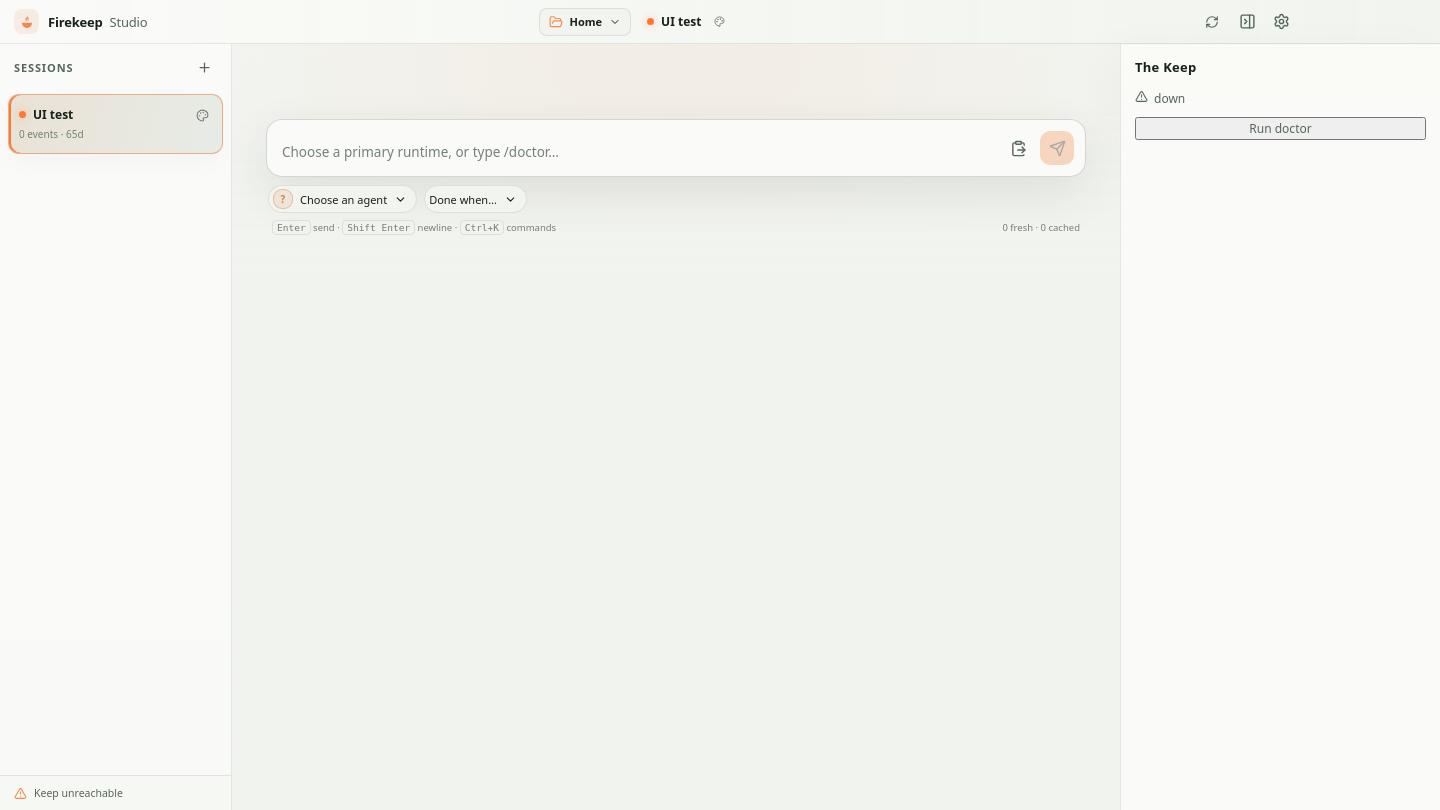
Test case: Firekeep Studio renderer › shows a failed kit command as an error card in the sheet
What coordinates should you click on to do the following:
click the button "Run doctor"
I would click on:
 (1280, 128)
Its box is x1=1135 y1=117 x2=1426 y2=140.
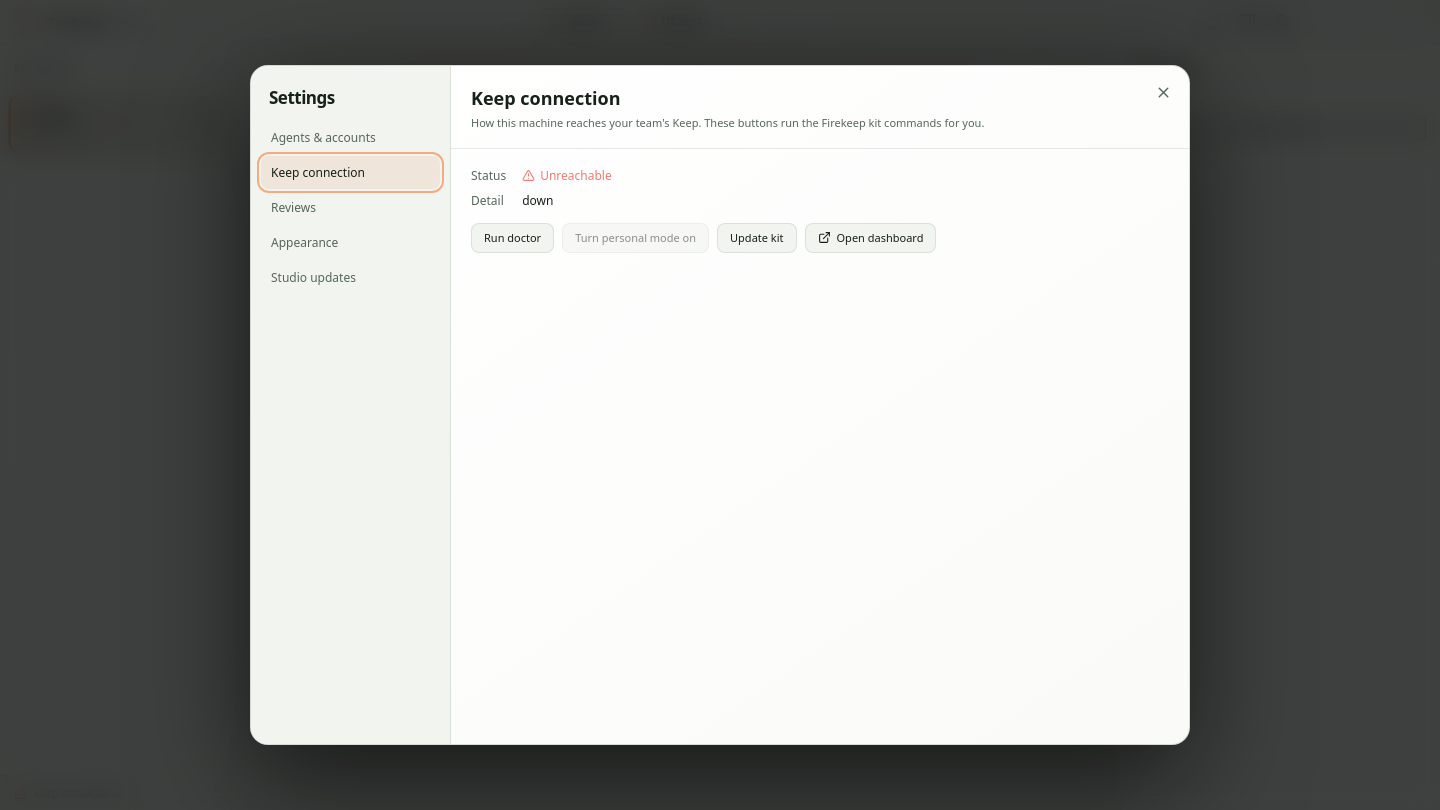
What coordinates should you click on to do the following:
click the button "Run doctor"
I would click on:
 (513, 238)
Its box is x1=471 y1=222 x2=554 y2=252.
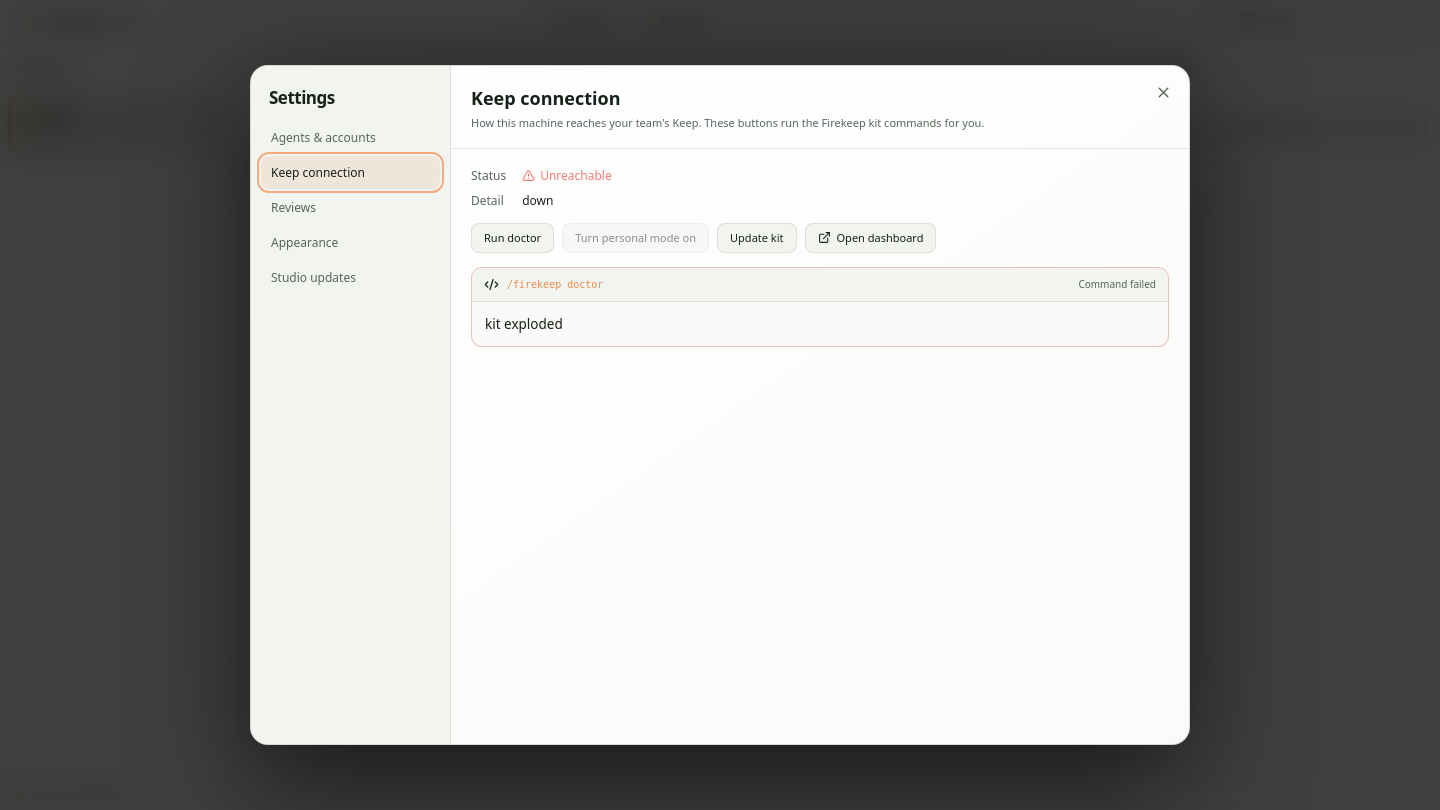
Now the text "kit exploded" is shown, box x1=485 y1=314 x2=563 y2=332
Now the element with class "danger" is shown, box x1=471 y1=266 x2=1169 y2=347
